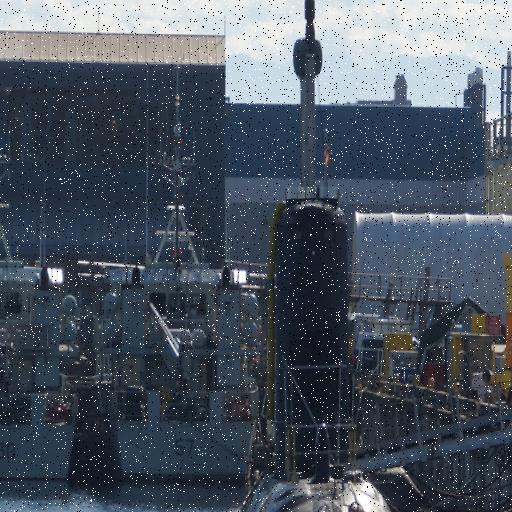submarine: (215, 199, 445, 512)
